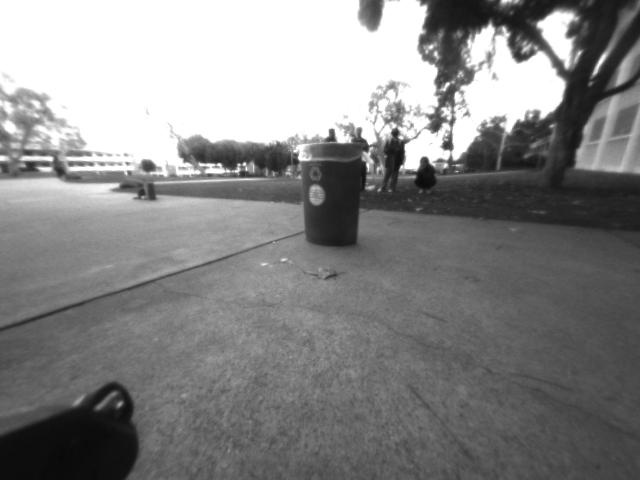trashcan_open: (292, 133, 374, 257)
